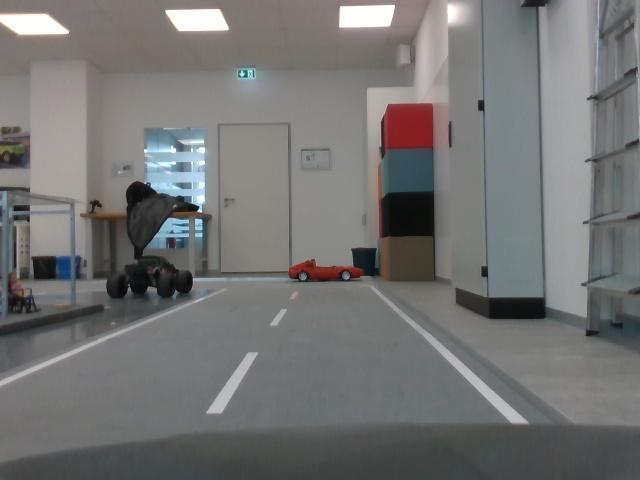car: (108, 255, 199, 304), (288, 258, 368, 286)
person: (3, 276, 49, 315)
